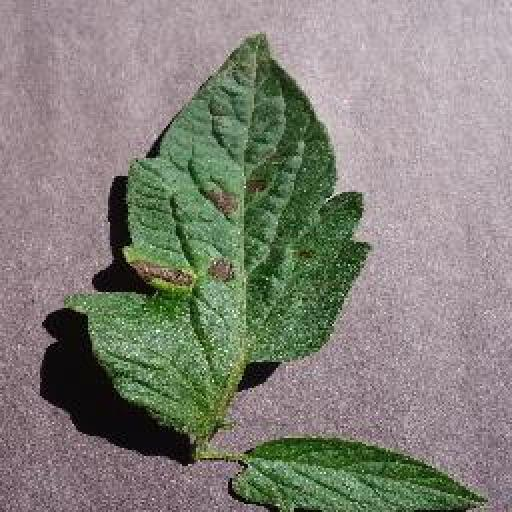Early Blight: (82, 35, 376, 436)
